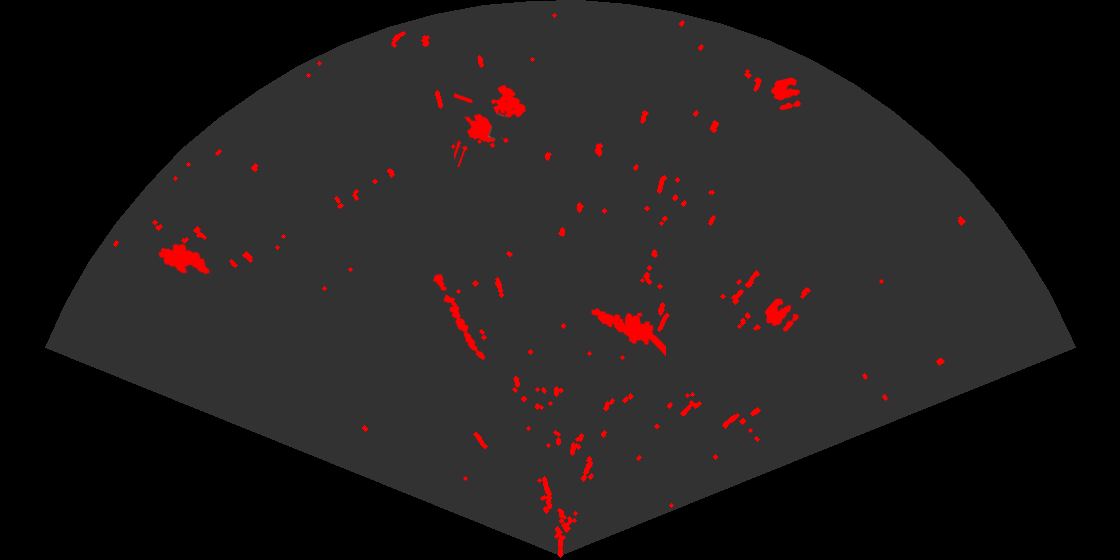AUV: (157, 242, 212, 276)
ball: (763, 297, 800, 333), (769, 76, 803, 112)
cage: (454, 83, 527, 167)
chain: (431, 272, 487, 362)
frogman: (590, 307, 666, 358)
